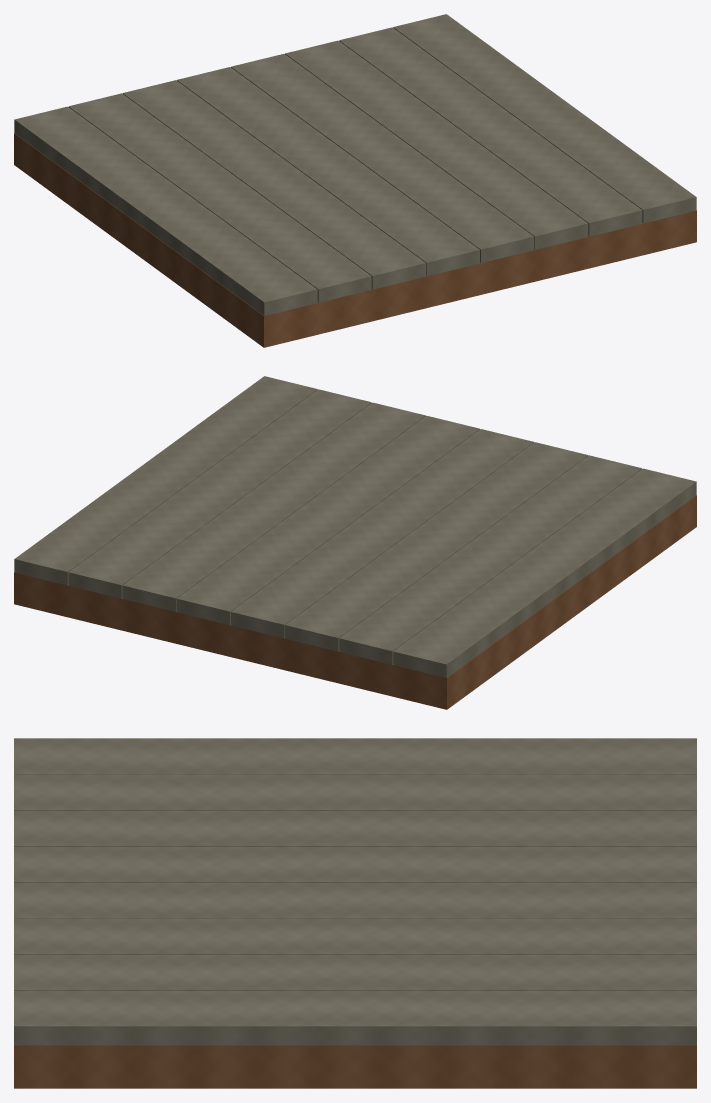
File: MRP_Landing_1x1m.fbx
The picture shows the model from 3 angles, top to bottom: view 1: azimuth 30°, elevation 25°; view 2: azimuth 150°, elevation 25°; view 3: azimuth 270°, elevation 25°; orthographic projection. The views are drawn at different scales.
Visible parts, largest first — view 1: Body; view 2: Body; view 3: Body.
Boxes of the visible parts, x1,y1,x2,y2 form: Body: [14, 14, 696, 347]; Body: [14, 376, 696, 709]; Body: [14, 738, 696, 1088].
Bounding box in the file's own units: 1 × 0.1 × 1.
